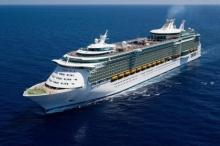youlun: (22, 15, 204, 110)
